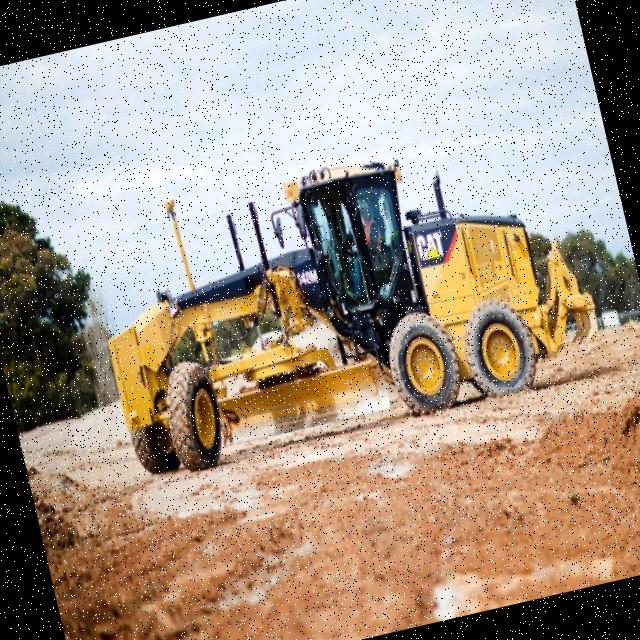Grader: (57, 82, 630, 522)
